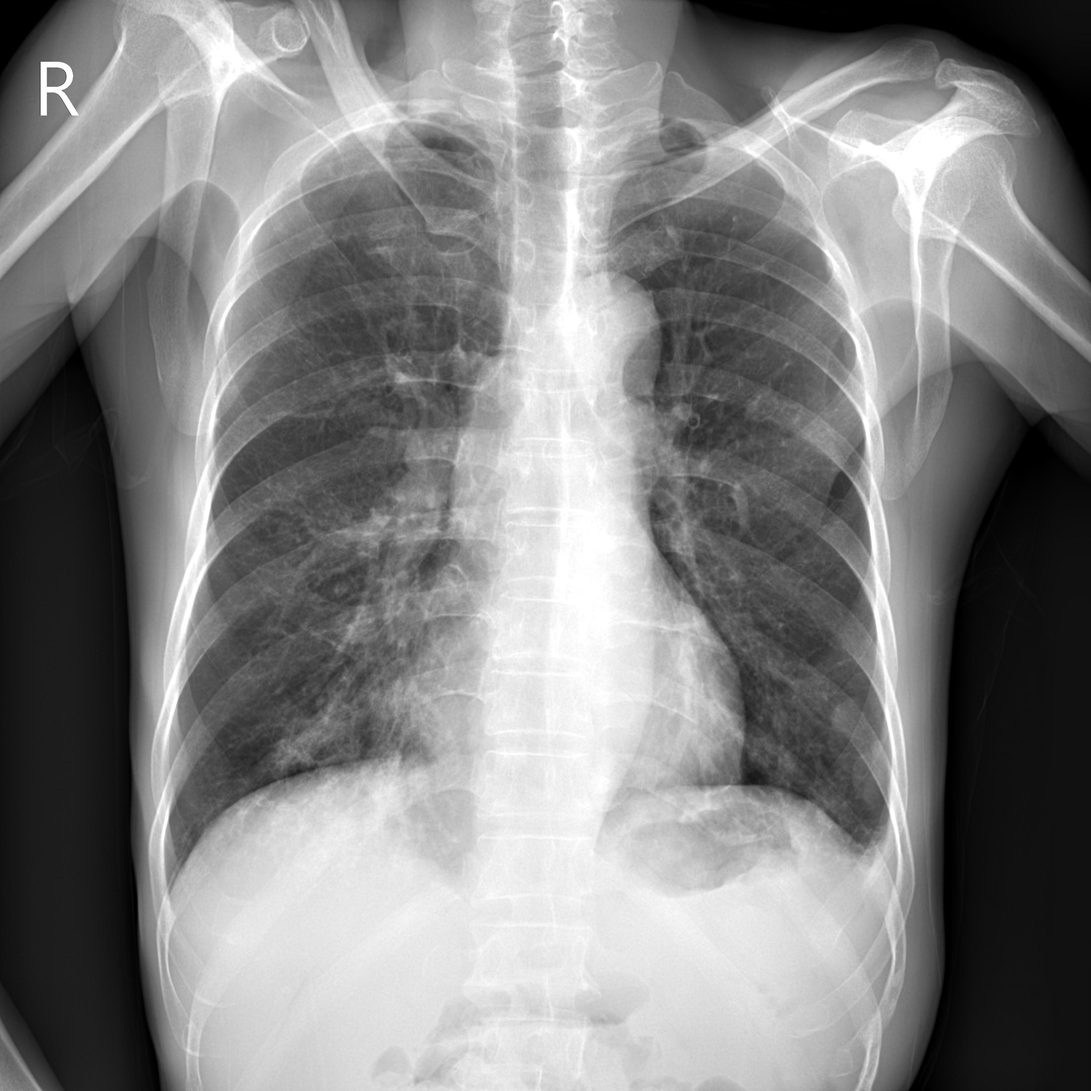Aortic enlargement: (562, 262, 668, 406)
Pleural thickening: (845, 670, 905, 806), (851, 814, 898, 898)
Pulmonary fibrosis: (299, 541, 483, 758)
